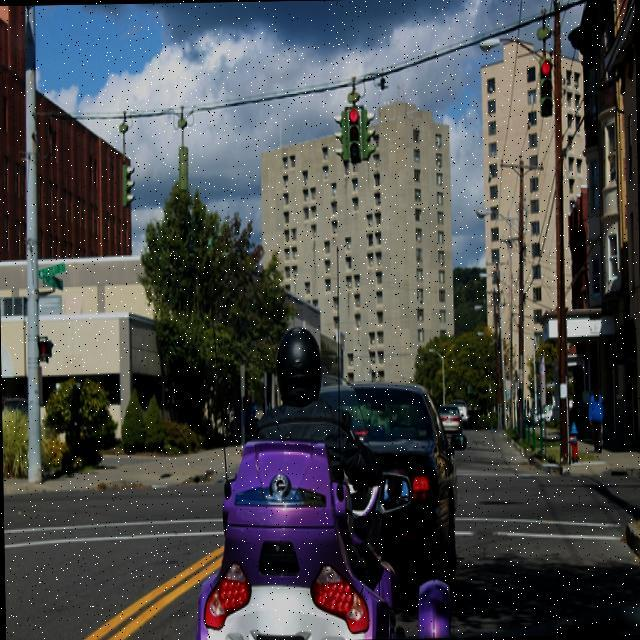fire_hydrant: (568, 420, 578, 462)
